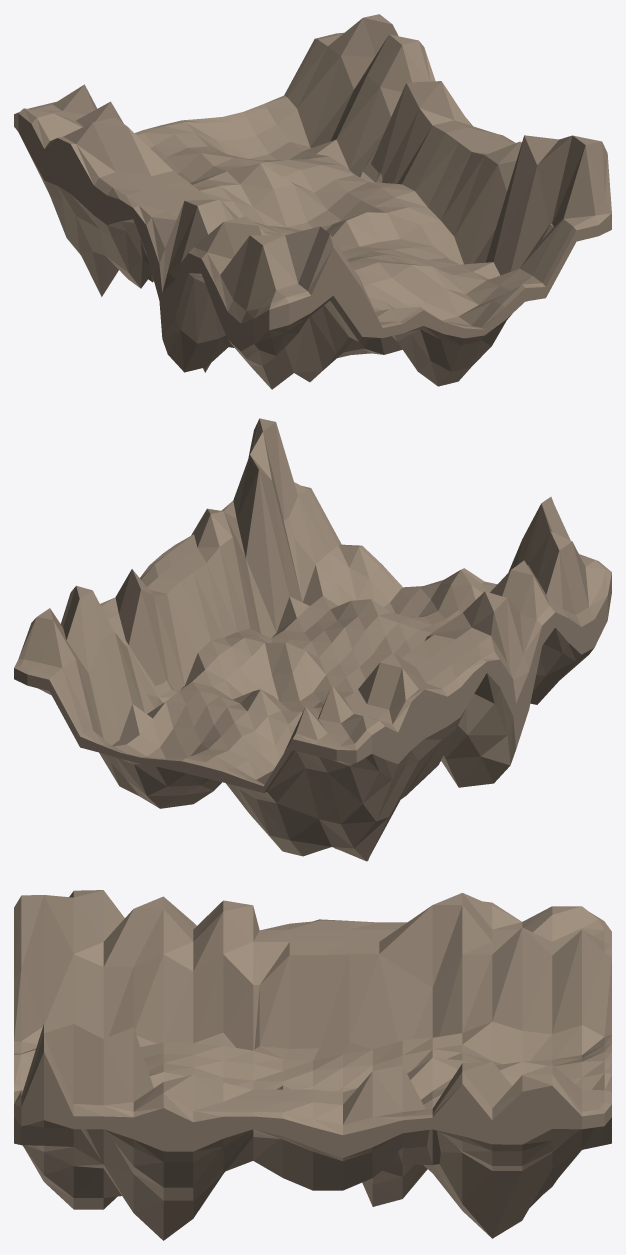
Rendered from low_poly_riverbed_02.fbx.
3 views of the same model, one above another, from view 1: azimuth 30°, elevation 25°; view 2: azimuth 150°, elevation 25°; view 3: azimuth 270°, elevation 25° (orthographic). The views are drawn at different scales.
Visible parts, largest first — view 1: pCube1; view 2: pCube1; view 3: pCube1.
Part boxes in pixels (bbox=[...]): pCube1: bbox=[14, 14, 611, 389]; pCube1: bbox=[14, 418, 611, 861]; pCube1: bbox=[14, 890, 611, 1240].
Bounding box in the file's own units: 33.85 × 25.22 × 43.4.
